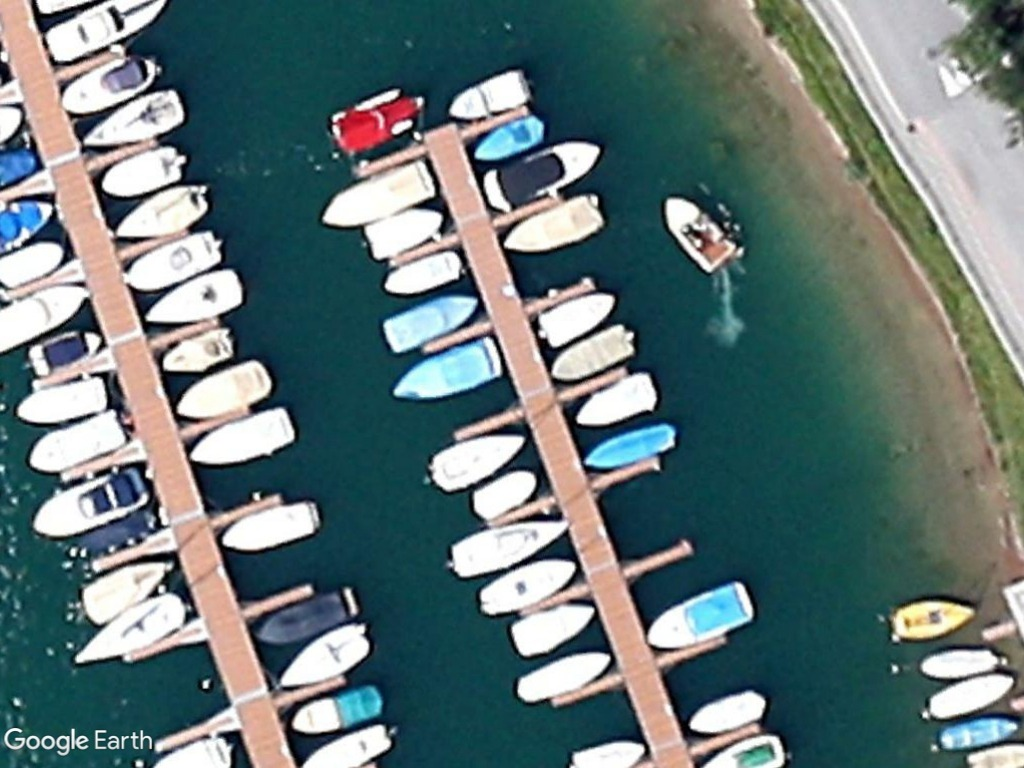boat: (65, 586, 191, 669), (30, 462, 150, 543), (642, 575, 760, 656), (481, 137, 603, 213), (24, 398, 134, 481), (448, 512, 574, 583), (140, 250, 252, 328), (317, 155, 436, 228), (390, 330, 503, 404), (185, 395, 297, 469), (474, 541, 580, 618), (75, 553, 181, 628), (56, 47, 162, 120), (503, 185, 610, 257), (423, 423, 530, 492), (571, 360, 670, 434), (110, 175, 217, 243), (255, 582, 358, 652), (124, 227, 230, 295), (172, 353, 274, 423), (275, 618, 372, 691), (81, 84, 187, 150), (285, 672, 388, 739), (217, 489, 323, 554), (512, 644, 614, 711), (548, 317, 641, 388), (581, 414, 684, 478), (381, 289, 478, 356), (11, 372, 113, 433), (659, 195, 738, 273), (536, 284, 622, 352), (506, 598, 597, 662), (355, 204, 443, 270), (98, 136, 192, 197), (446, 63, 536, 124), (680, 683, 775, 740), (921, 666, 1016, 720), (375, 244, 465, 299), (155, 320, 240, 378), (27, 321, 105, 381), (469, 110, 546, 166), (887, 597, 980, 643), (474, 466, 543, 523), (938, 711, 1022, 753), (915, 644, 1003, 681)
